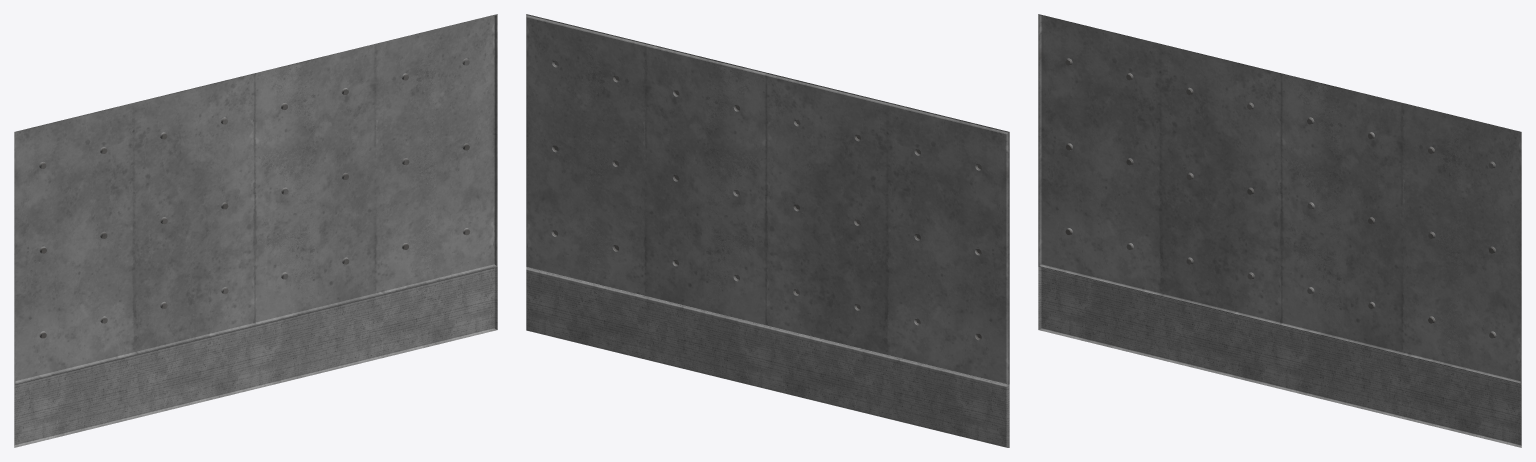
Rendered from SM_Wall_08.fbx.
3 renders of one model, left to right at view 1: azimuth 30°, elevation 25°; view 2: azimuth 150°, elevation 25°; view 3: azimuth 330°, elevation 25°, orthographic.
Visible parts, largest first — view 1: SM_Wall_08; view 2: SM_Wall_08; view 3: SM_Wall_08.
Boxes of the visible parts, bbox=[...] form: SM_Wall_08: bbox=[14, 14, 497, 447]; SM_Wall_08: bbox=[526, 14, 1009, 447]; SM_Wall_08: bbox=[1038, 14, 1521, 447].
Size of the model in its own units: 400 by 250 by 2.
